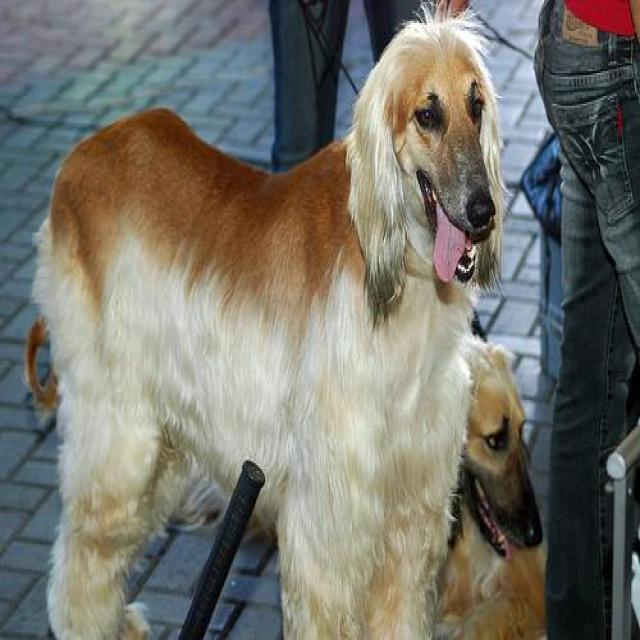afghan_hound: (27, 0, 508, 638), (426, 363, 548, 638)
